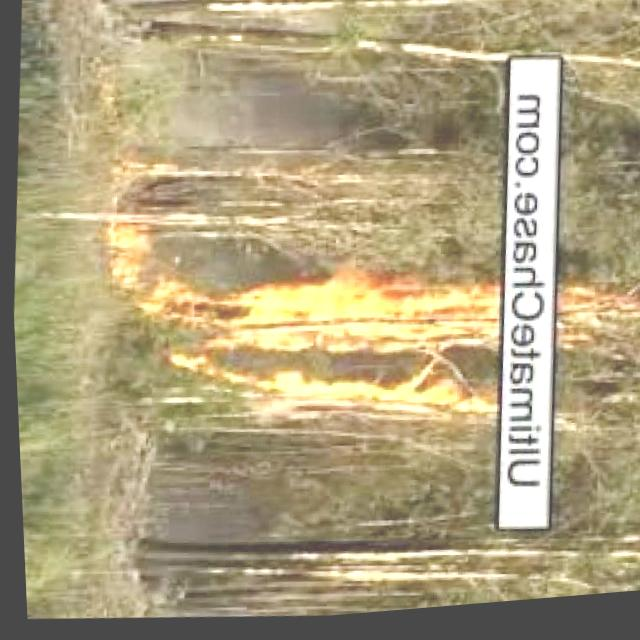Fire: (163, 257, 498, 445), (100, 218, 172, 343), (550, 282, 636, 364)
